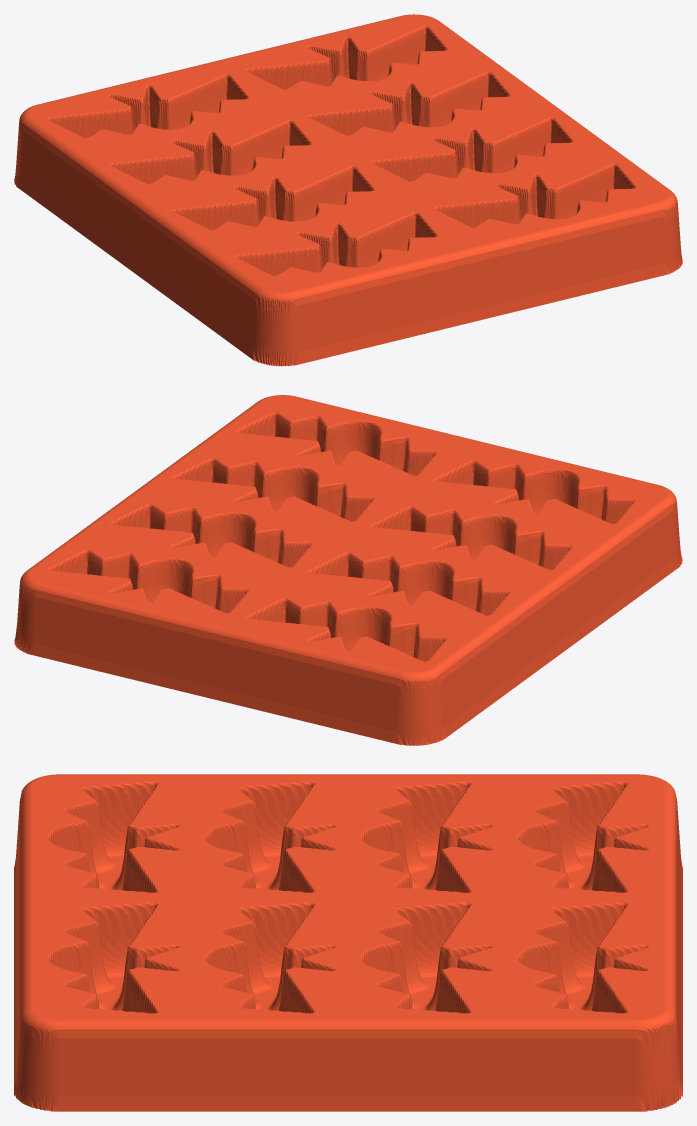
The model's file is mold.glb.
3 renders of one model, top to bottom at view 1: azimuth 30°, elevation 25°; view 2: azimuth 150°, elevation 25°; view 3: azimuth 270°, elevation 25°, orthographic. The views are drawn at different scales.
Parts seen in each view (by area): view 1: geometry_0; view 2: geometry_0; view 3: geometry_0.
Part boxes in pixels (left/top/right/bottom): geometry_0: left=14, top=14, right=682, bottom=366; geometry_0: left=14, top=395, right=682, bottom=745; geometry_0: left=14, top=774, right=682, bottom=1111.
Bounding box in the file's own units: 0.1222 × 0.0185 × 0.133.
